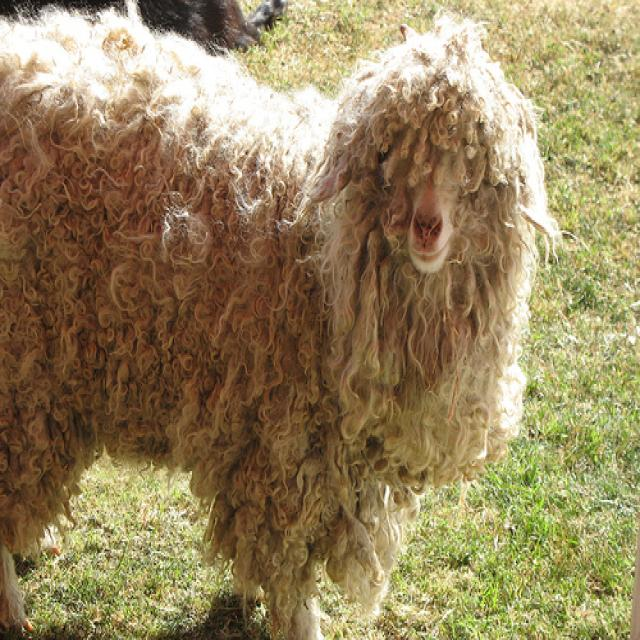sheep: (3, 3, 566, 639)
